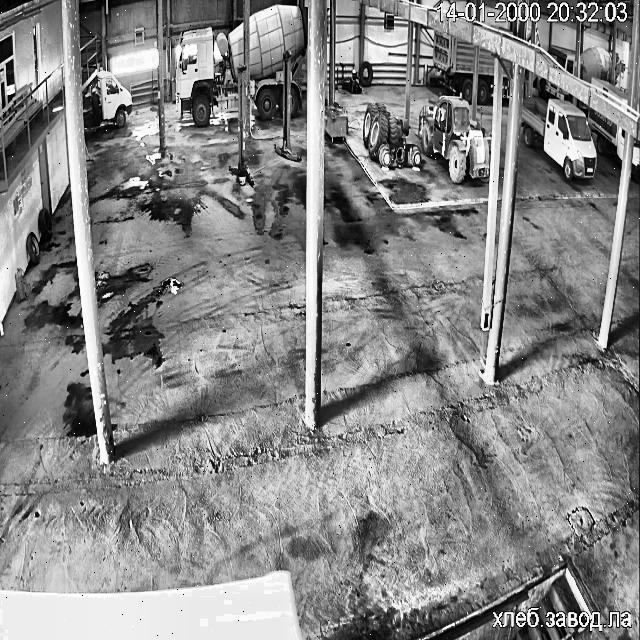class4: (92, 90, 102, 125)
class6: (418, 96, 489, 181), (362, 103, 420, 166)
class7: (176, 24, 244, 124), (248, 4, 306, 117), (521, 99, 596, 180), (433, 28, 474, 101), (88, 69, 132, 125), (588, 108, 624, 158), (580, 46, 610, 81), (476, 48, 494, 103), (592, 78, 628, 102), (548, 45, 574, 73), (537, 78, 570, 98), (500, 60, 510, 98), (632, 140, 640, 178), (616, 53, 620, 65), (616, 65, 620, 76)
truck: (229, 67, 253, 185), (275, 52, 300, 161)
